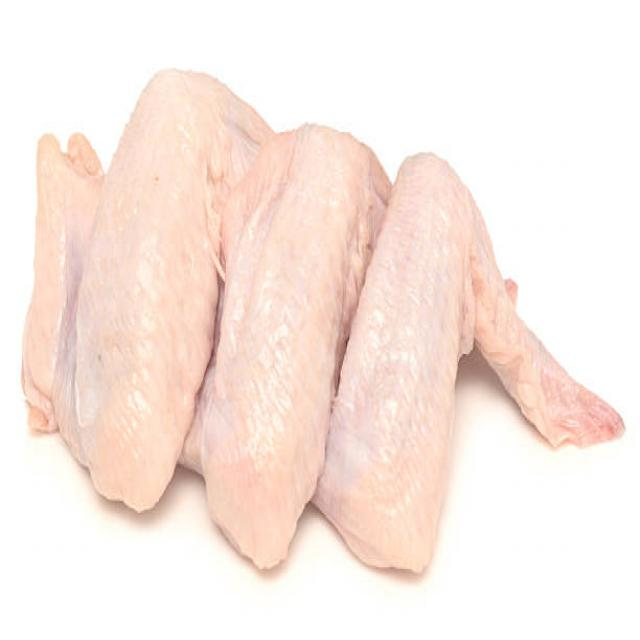Chicken: (344, 150, 616, 575)
